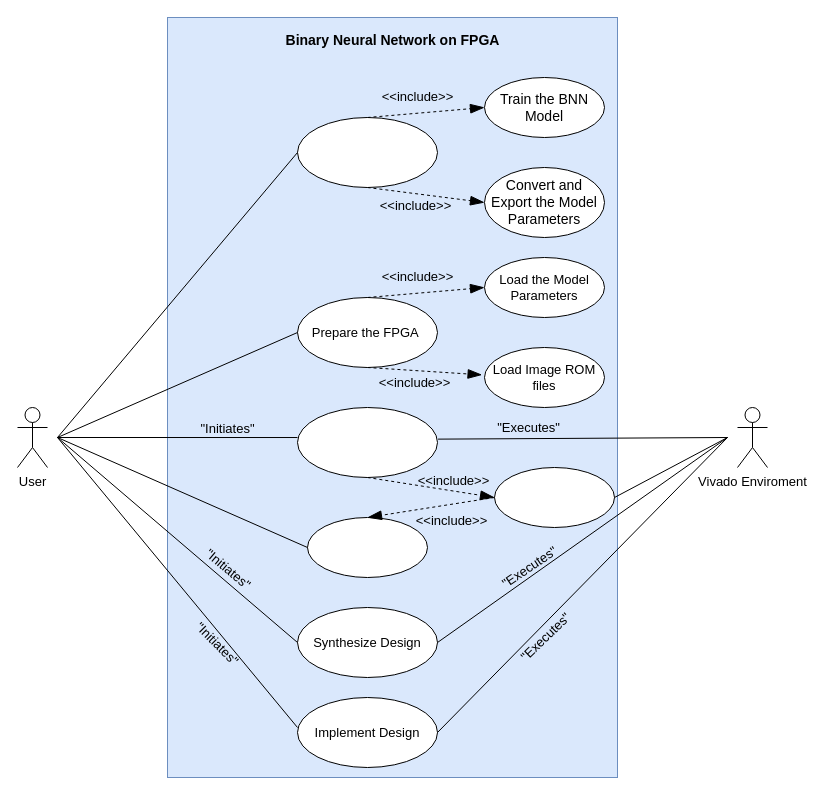
The diagram is 824 pixels wide and 795 high, and some of its shapes have lost their labels. Here are the shapes that lost their labels. From the top down, the centre of each, then its label:
At (367,152): "Prepare the Binary Neural Network".
At (367,442): "Run Behavioral Simulation".
At (554,497): "Display Waveform".
At (367,547): "Check Inference Prediction".
